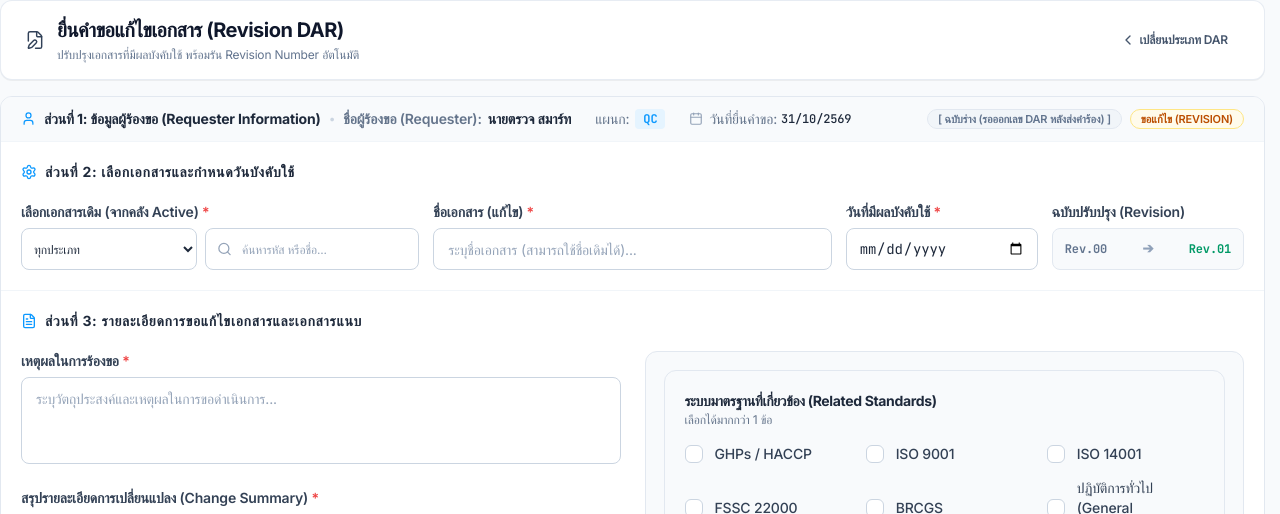
Test: DAR Document Code Resolution & Form Standardization › 2. DAR Revision Form UI: Dropdown & Selected State › renders genuine document code in the dropdown option header and title underneath
# Open the dropdown by focusing the search input
Step 1. Focus the field with placeholder "ค้นหารหัส หรือชื่อ..." → (312, 249), box x1=205 y1=228 x2=419 y2=270
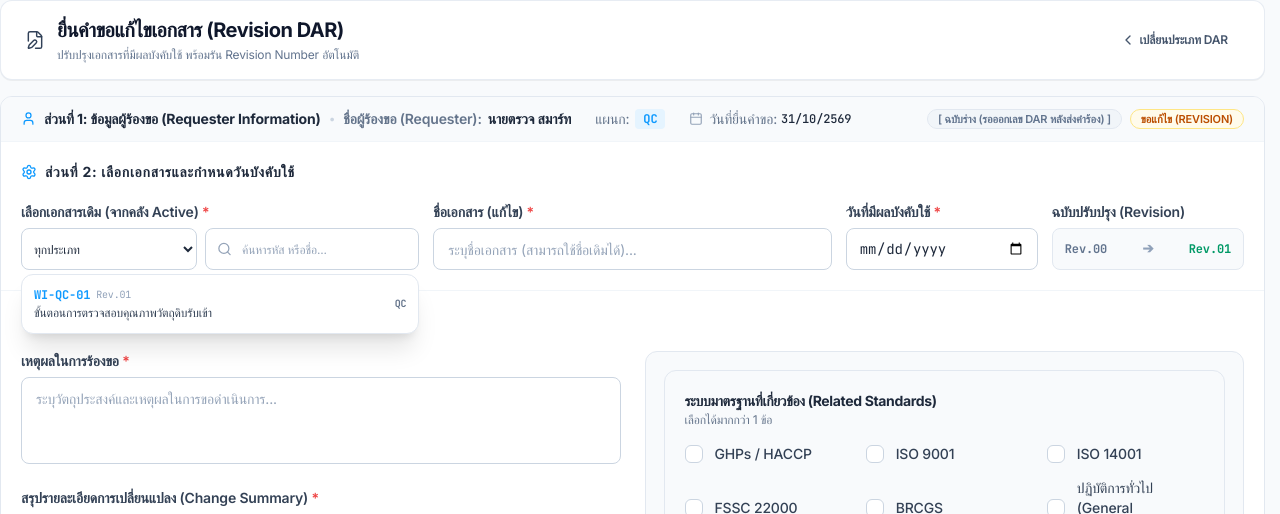
Result: the text "WI-QC-01" is shown at x1=34 y1=287 x2=90 y2=303
Result: the text "ขั้นตอนการตรวจสอบคุณภาพวัตถุดิบรับเข้า" is shown at x1=34 y1=305 x2=212 y2=321
